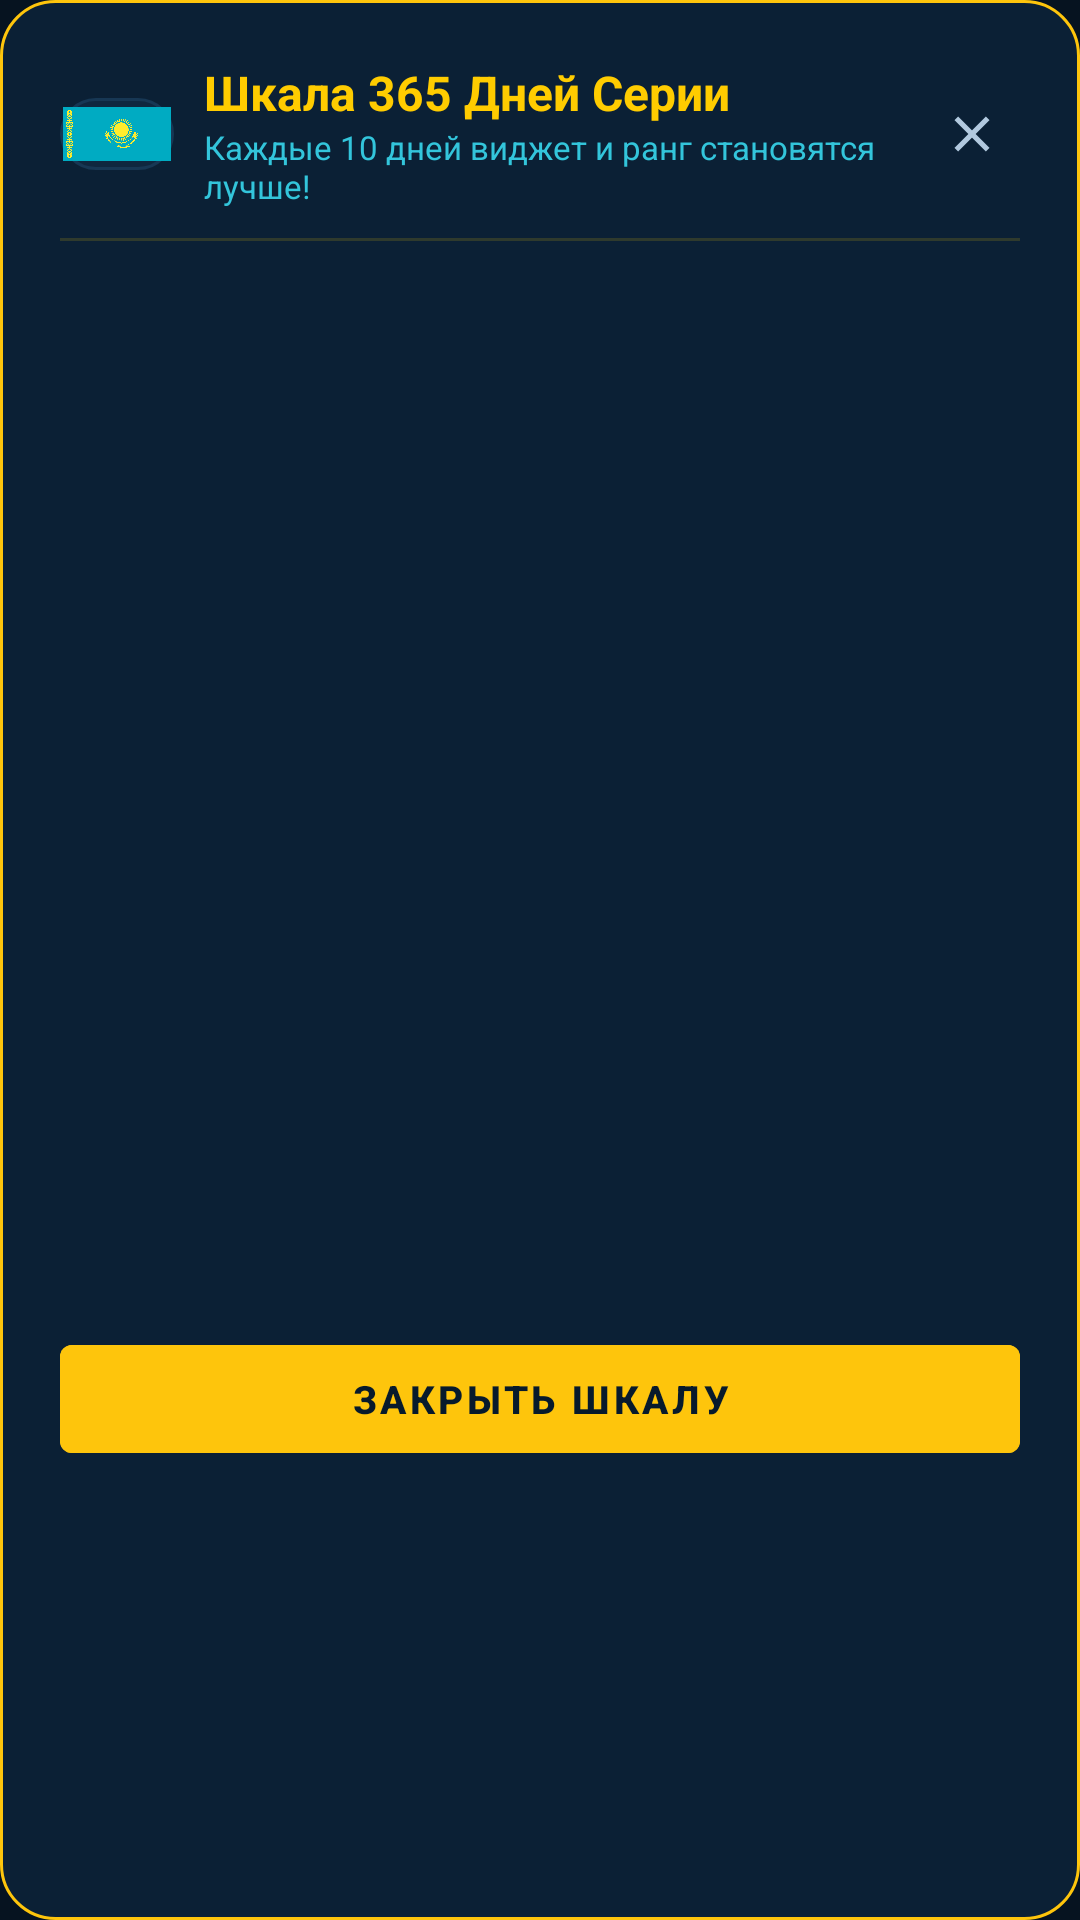

Locate icon controls on the screen. Image size 1080 x 1920, boxes as (x1=x1, y1=y1, x2=x2, y2=y2).
Close: (x1=954, y1=116, x2=990, y2=152)
Flag of Kazakhstan: (x1=63, y1=101, x2=171, y2=167)
